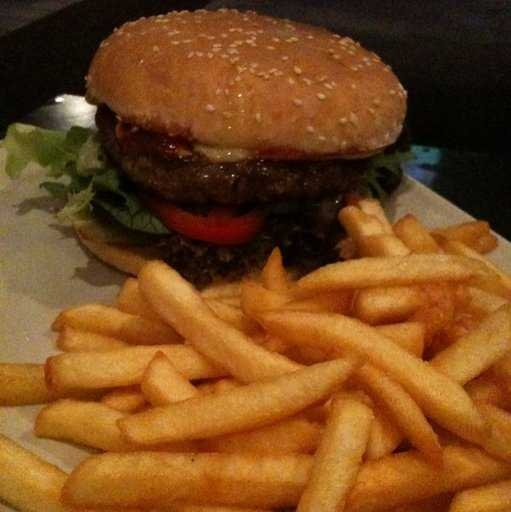hamburger: (44, 20, 426, 272)
